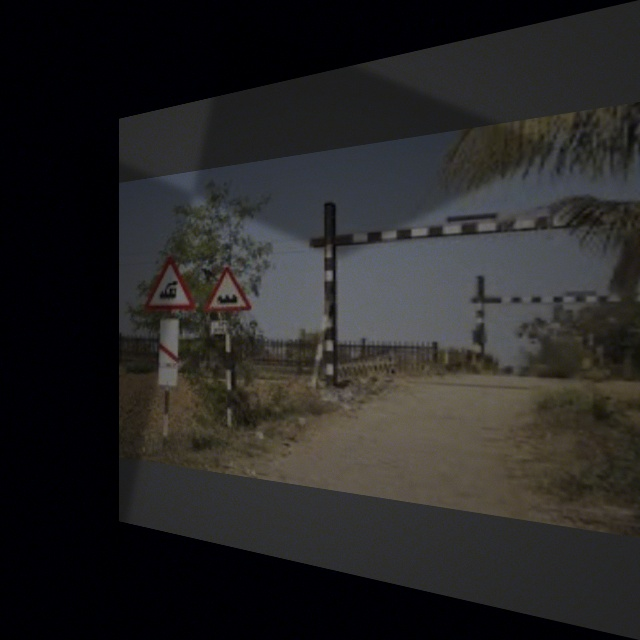Unguarded_Level_Crossing: (146, 251, 193, 316)
